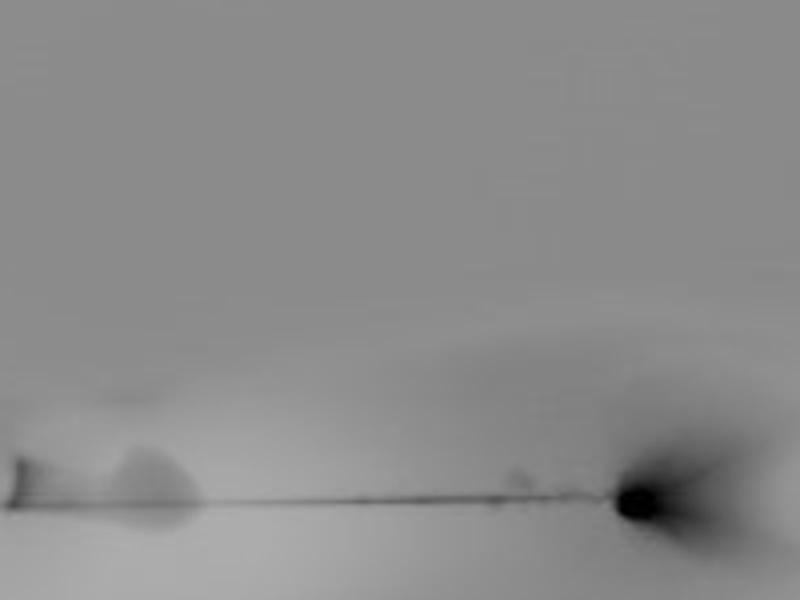defect: (109, 449, 209, 530), (616, 468, 681, 533)
